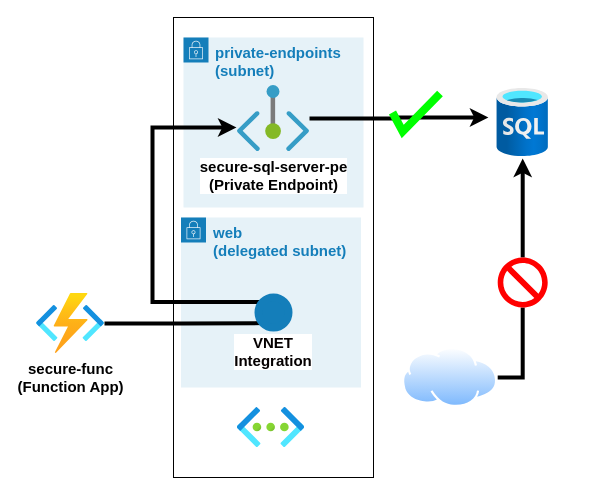
Some shapes in this 608 by 495 pixel diagram are drawn without their labels. Here are the shapes that lost their labels. From the top down, the centre of each, then its label:
the point at 522,122: secure-sql-server (Azure SQL server)
the point at 449,377: Internet
the point at 270,427: Virtual Network
